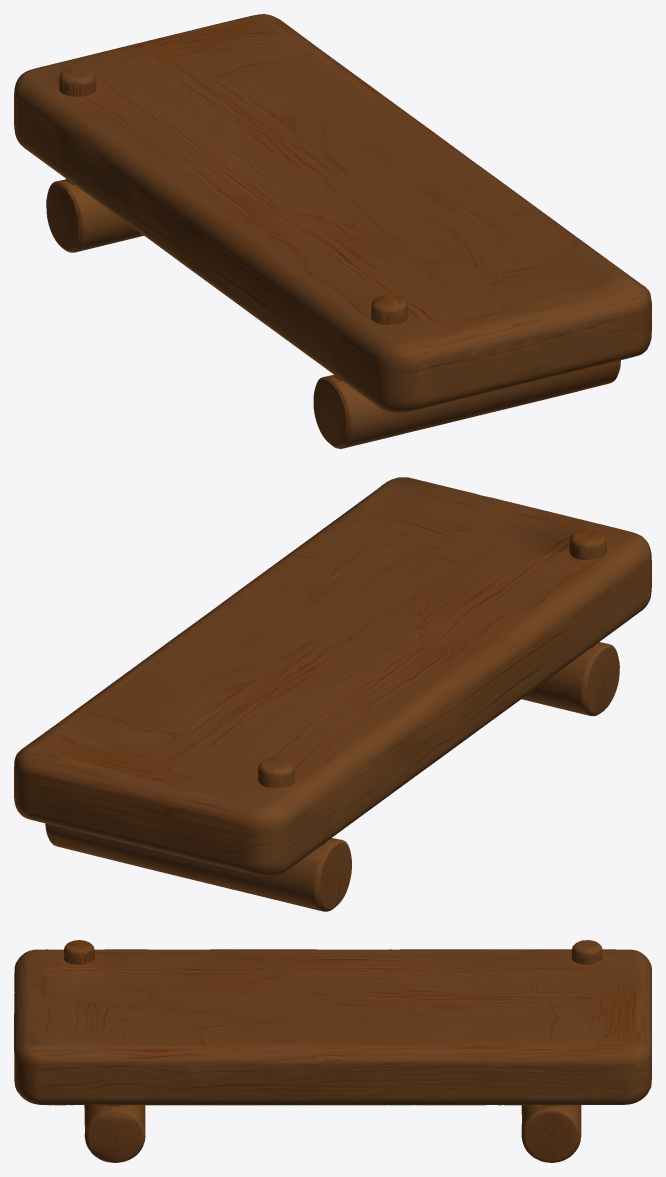
Rendered from shelf.glb.
3 renders of one model, top to bottom at view 1: azimuth 30°, elevation 25°; view 2: azimuth 150°, elevation 25°; view 3: azimuth 270°, elevation 25°, orthographic. The views are drawn at different scales.
Parts seen in each view (by area): view 1: model; view 2: model; view 3: model.
Boxes of the visible parts, x1,y1,x2,y2 form: model: [14, 14, 651, 448]; model: [14, 477, 651, 911]; model: [14, 940, 651, 1162].
Bounding box in the file's own units: 0.7706 × 0.4116 × 1.9.
Materials: 1 (1 with a texture image).
